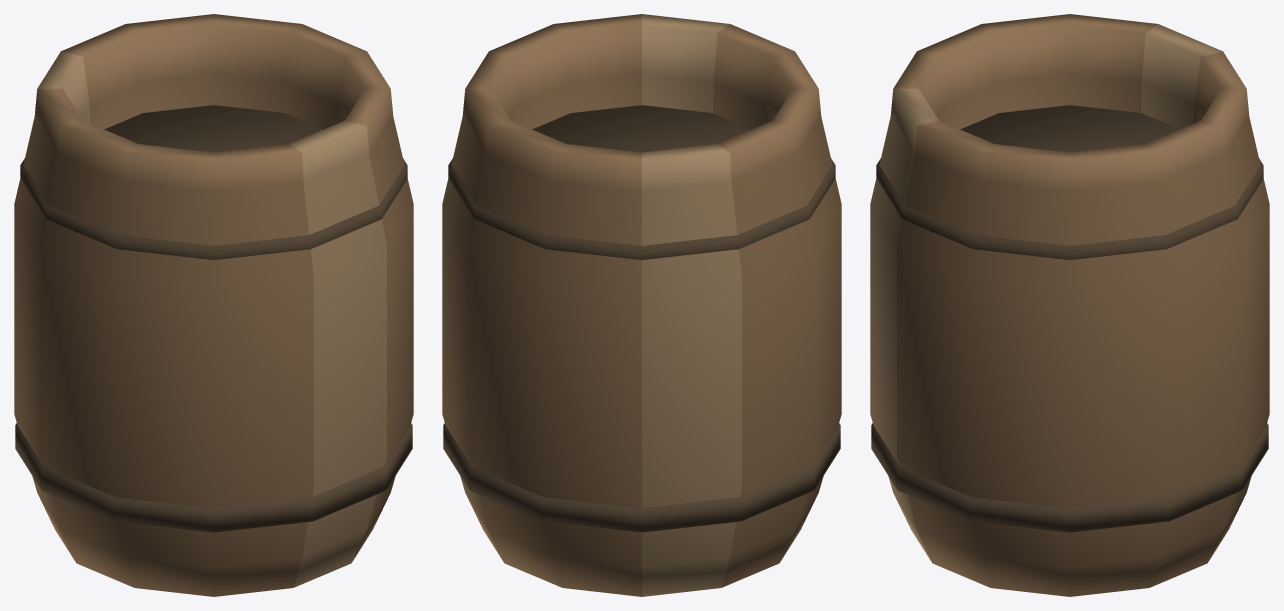
The model's file is wood_barrel_open.glb.
3 renders of one model, left to right at view 1: azimuth 30°, elevation 25°; view 2: azimuth 150°, elevation 25°; view 3: azimuth 270°, elevation 25°, orthographic.
Visible parts, largest first — view 1: wood_barrel_open; view 2: wood_barrel_open; view 3: wood_barrel_open.
Boxes of the visible parts, x1=… form: wood_barrel_open: x1=14, y1=14, x2=413, y2=596; wood_barrel_open: x1=442, y1=14, x2=841, y2=596; wood_barrel_open: x1=870, y1=14, x2=1269, y2=596.
Bounding box in the file's own units: 0.78 × 0.95 × 0.78.
